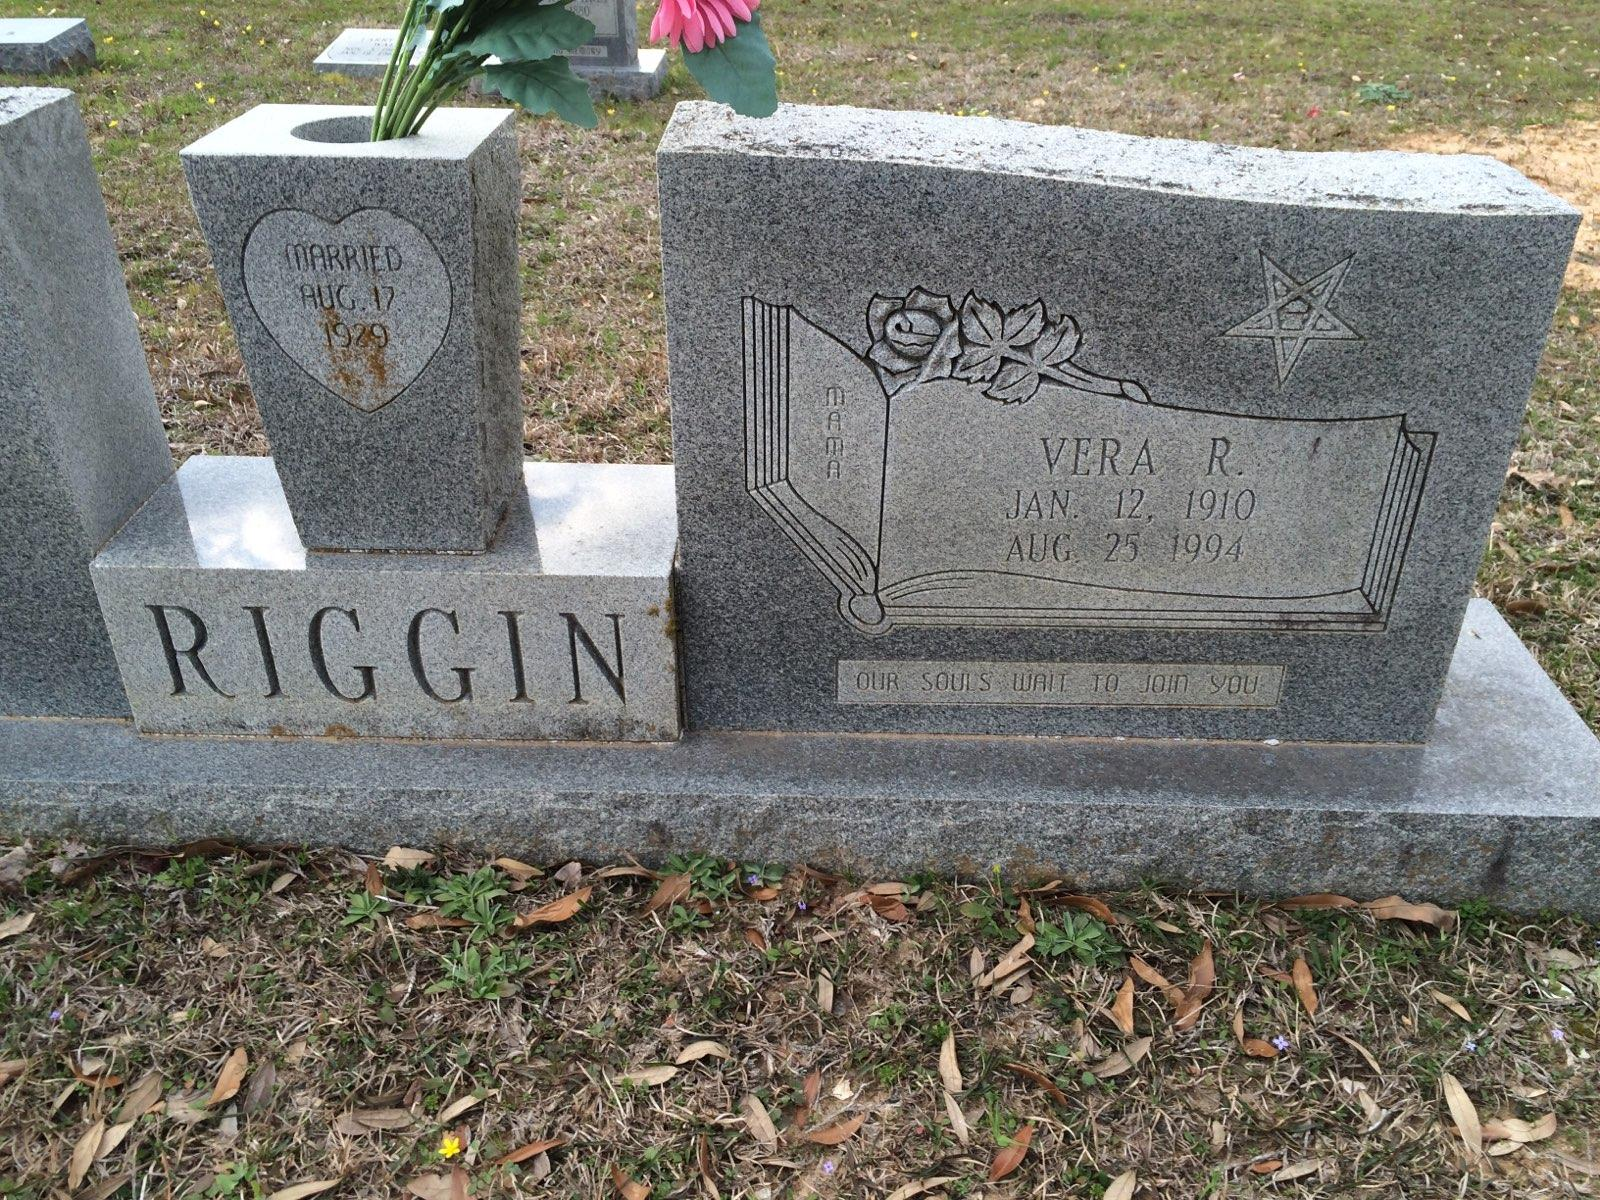upright: (620, 61, 1591, 950)
